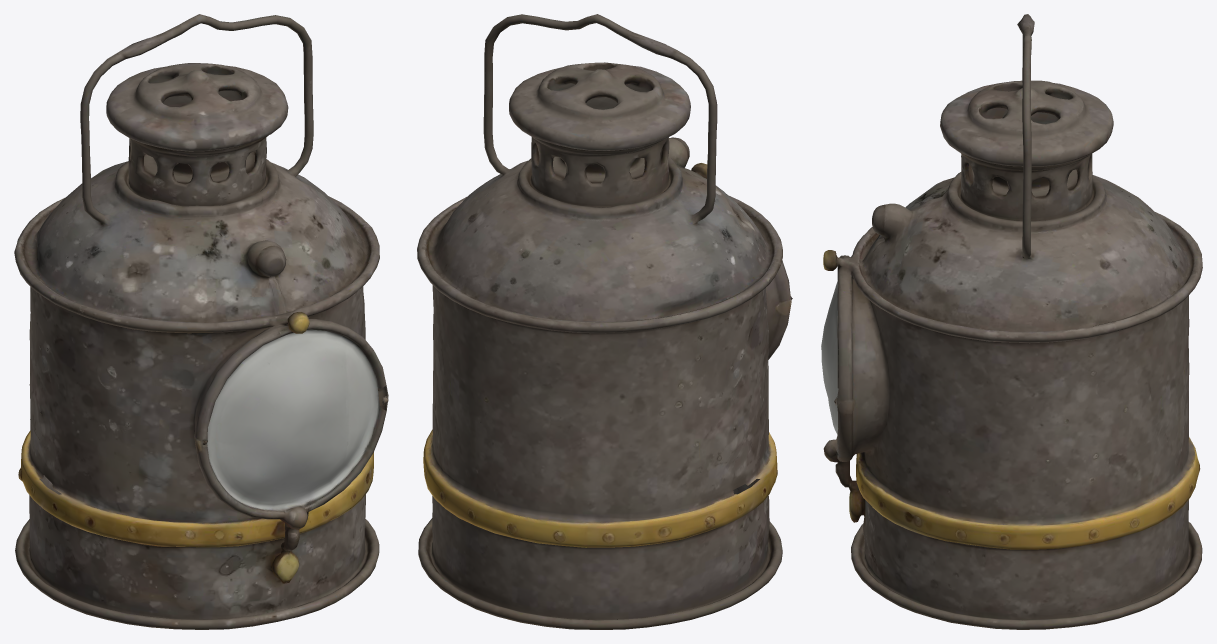
File: lamp_held_tripo.glb
3 views of the same model, side by side, from view 1: azimuth 30°, elevation 25°; view 2: azimuth 150°, elevation 25°; view 3: azimuth 270°, elevation 25° (orthographic). The views are drawn at different scales.
Parts seen in each view (by area): view 1: old lantern 3d model; view 2: old lantern 3d model; view 3: old lantern 3d model.
Part boxes in pixels (bbox=[...]): old lantern 3d model: bbox=[14, 14, 388, 629]; old lantern 3d model: bbox=[417, 14, 792, 629]; old lantern 3d model: bbox=[821, 14, 1202, 629].
Bounding box in the file's own units: 0.6009 × 0.9788 × 0.6477.
1 material, 1 textured.
